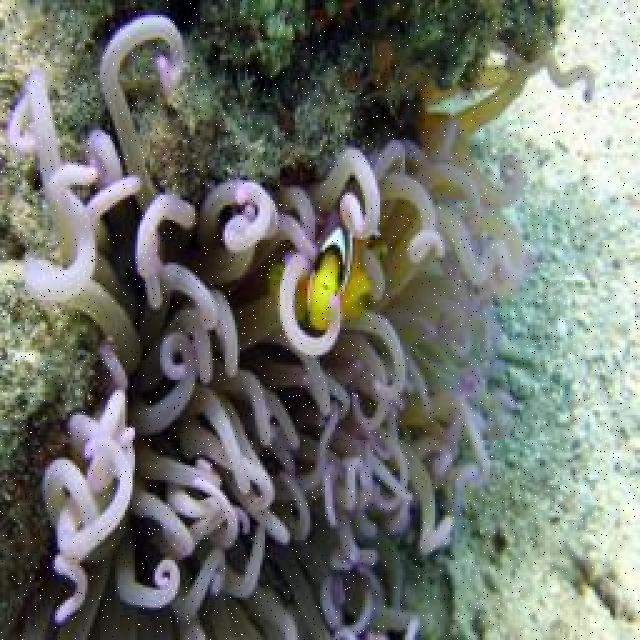fish: (269, 216, 397, 330)
reefs: (7, 13, 598, 638)
